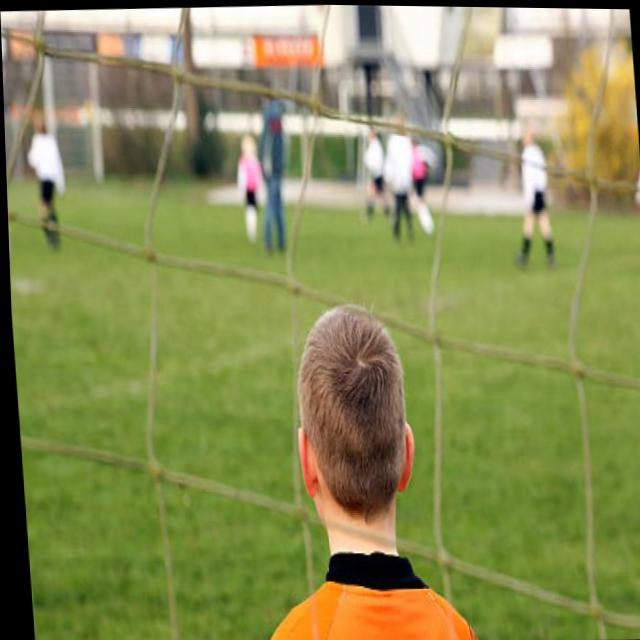no helmet: (285, 308, 419, 526)
